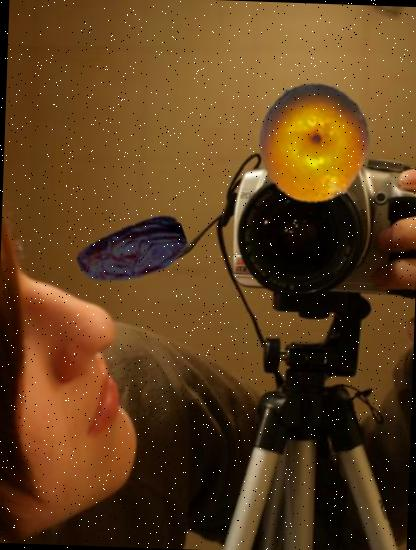Dates: (75, 196, 190, 310)
Kumquats: (252, 82, 376, 204)
